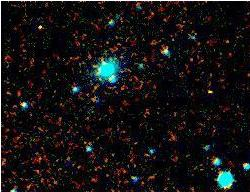star: (195, 80, 225, 110)
